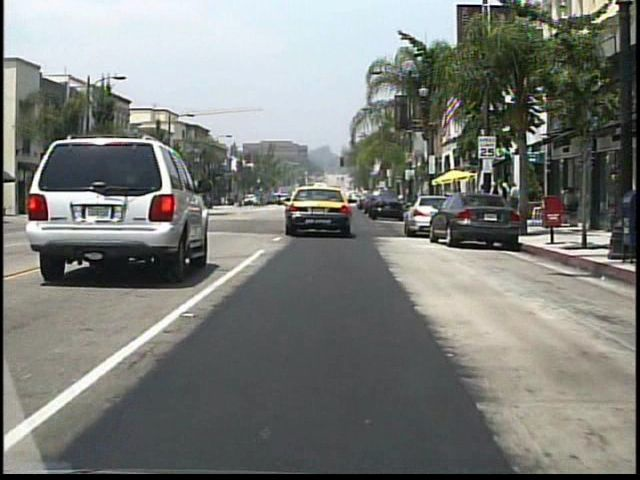person: (491, 177, 507, 214), (507, 181, 521, 223), (489, 179, 503, 216), (502, 183, 513, 216), (275, 190, 283, 205)
